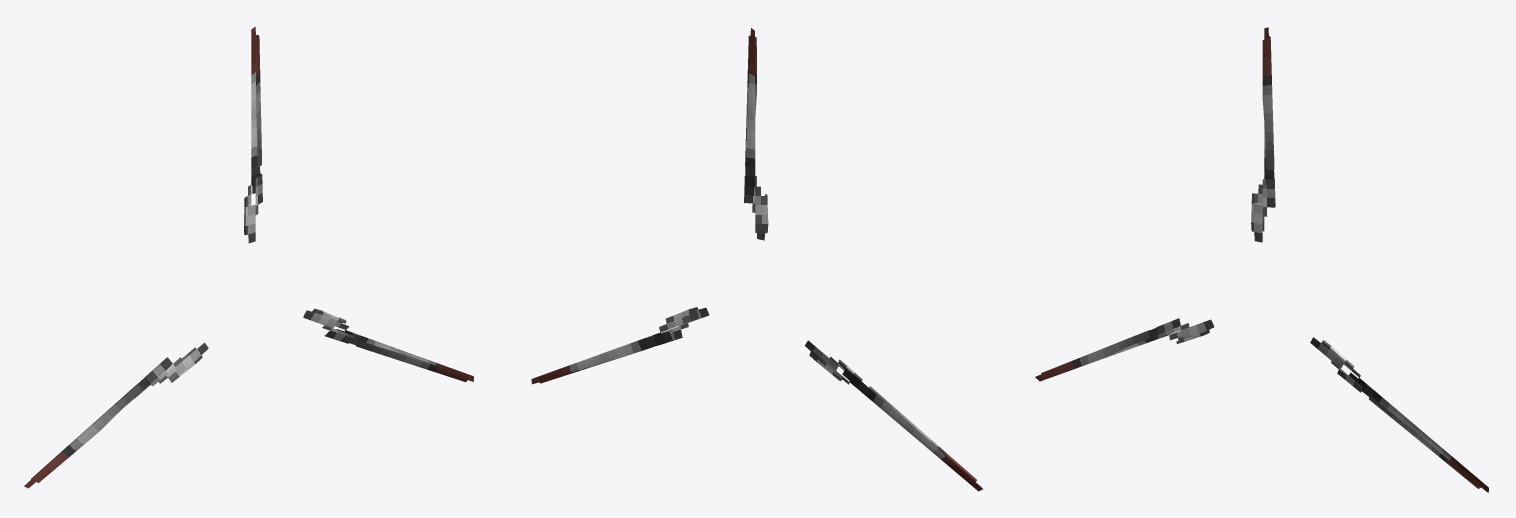
Rendered from windgen_fan.obj.
The picture shows the model from 3 angles, left to right: view 1: azimuth 30°, elevation 25°; view 2: azimuth 150°, elevation 25°; view 3: azimuth 330°, elevation 25°; orthographic projection.
Parts seen in each view (by area): view 1: windgen_fan; view 2: windgen_fan; view 3: windgen_fan.
Boxes of the visible parts, x1,y1,x2,y2 form: windgen_fan: [24, 26, 473, 488]; windgen_fan: [531, 28, 982, 491]; windgen_fan: [1035, 27, 1488, 492].
Size of the model in its own units: 12.57 by 10.89 by 0.6165.
